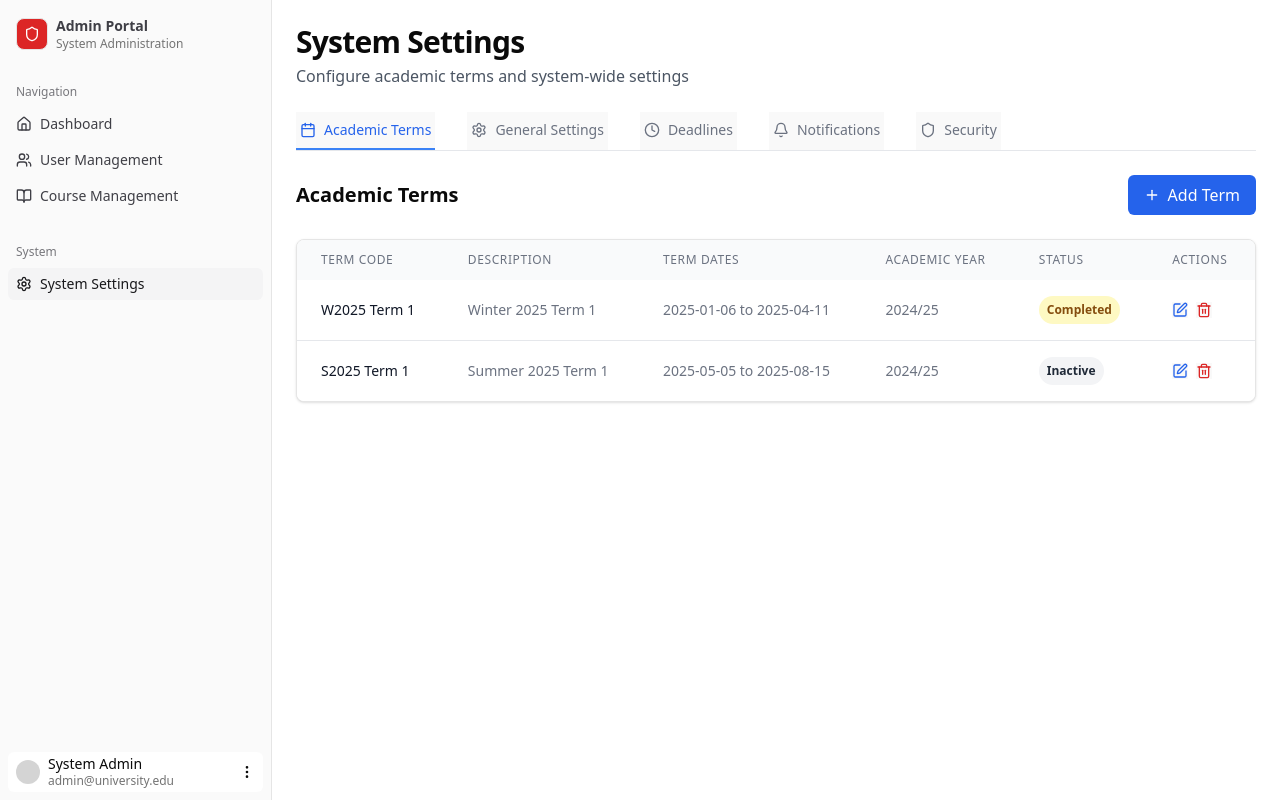
Test: SystemSettings › Modal Interactions › closes add term modal when cancel button is clicked
The width and height of the screenshot is (1280, 800).
Click the button "Add Term" at (1192, 195), box [1128,175,1256,215]
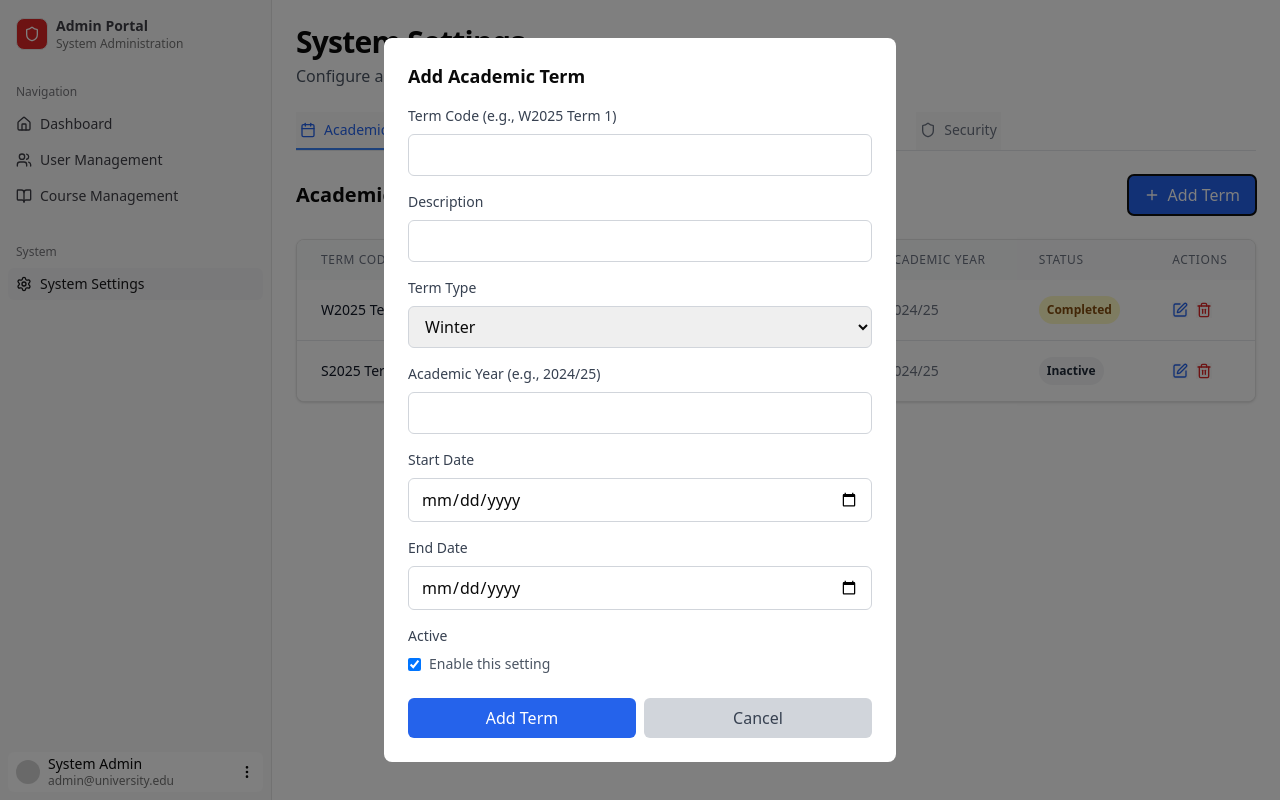
Expected: the heading "Add Academic Term" is shown, [408,64,585,88]
Click the button "Cancel" at (758, 718), box [644,698,872,738]
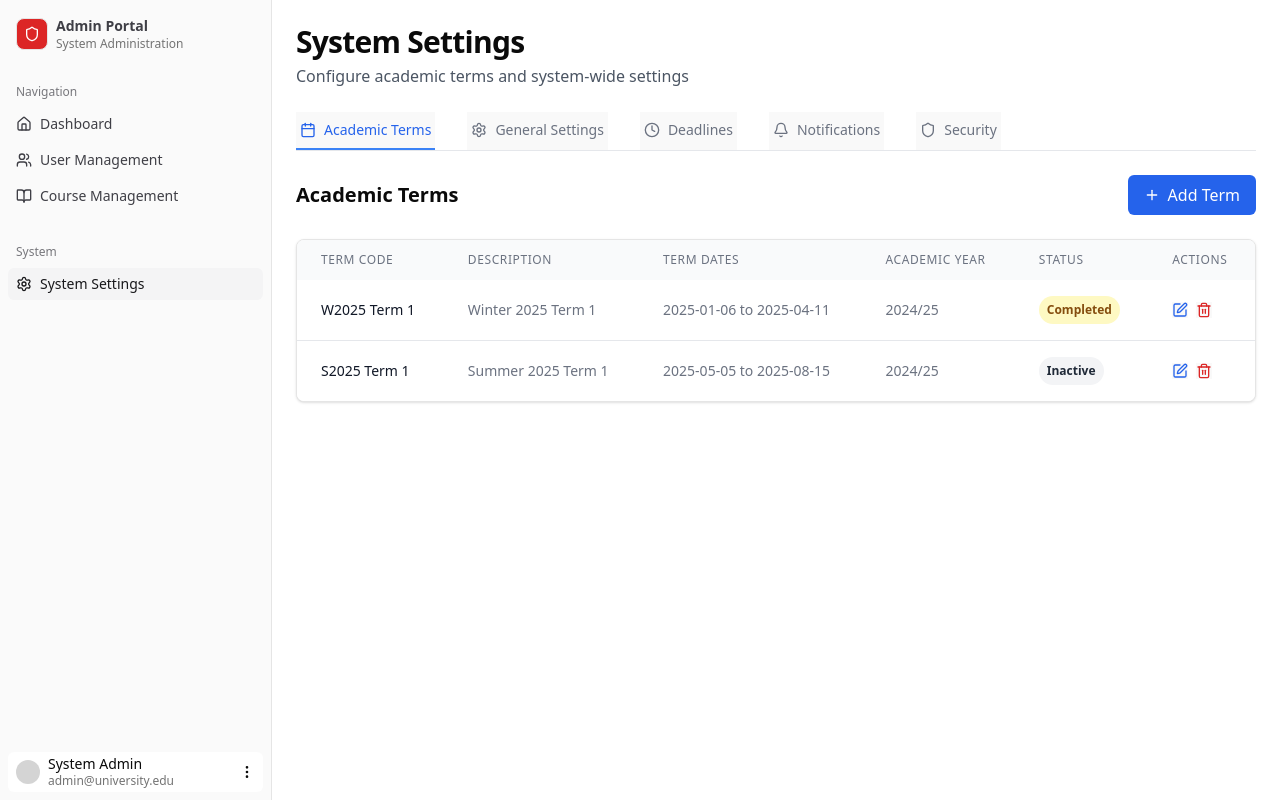
Expected: the heading "Add Academic Term" is gone
